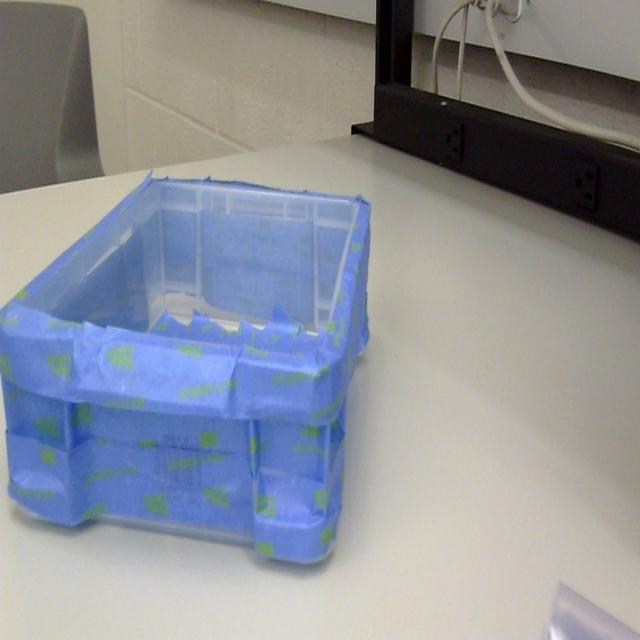bucket: (0, 180, 372, 572)
